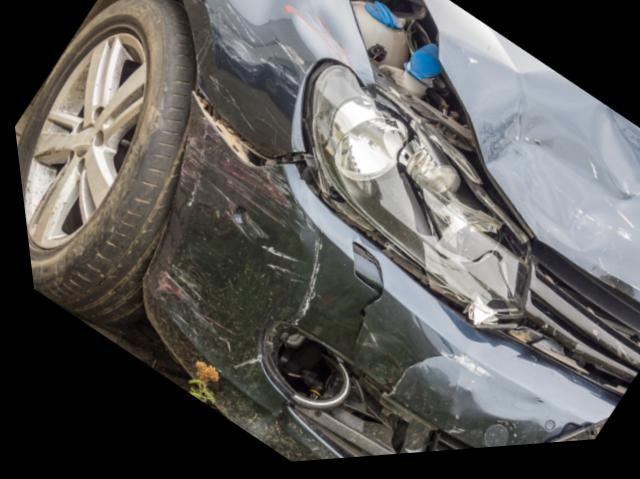crack: (375, 361, 444, 401), (343, 300, 372, 370)
dent: (435, 39, 640, 316), (292, 9, 361, 77)
dislocated part: (344, 0, 640, 315)
lamp broken: (299, 63, 524, 337)
no part: (266, 337, 427, 460)
scratch: (145, 109, 313, 363), (200, 0, 306, 96)
